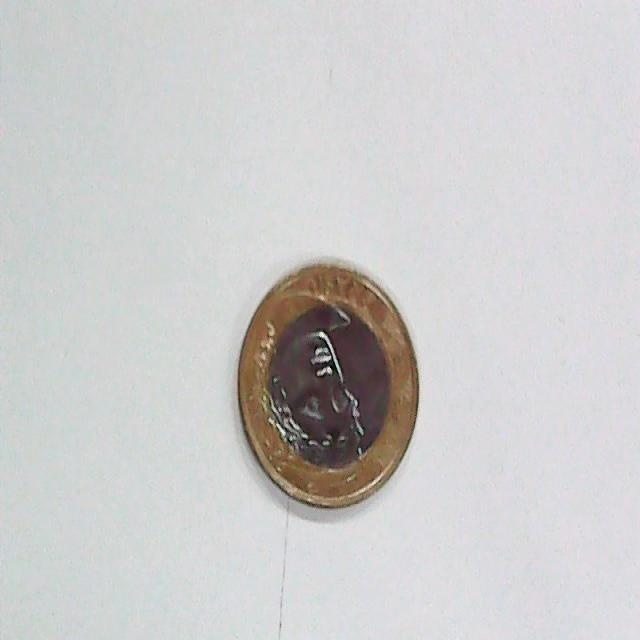1 real: (226, 238, 430, 520)
